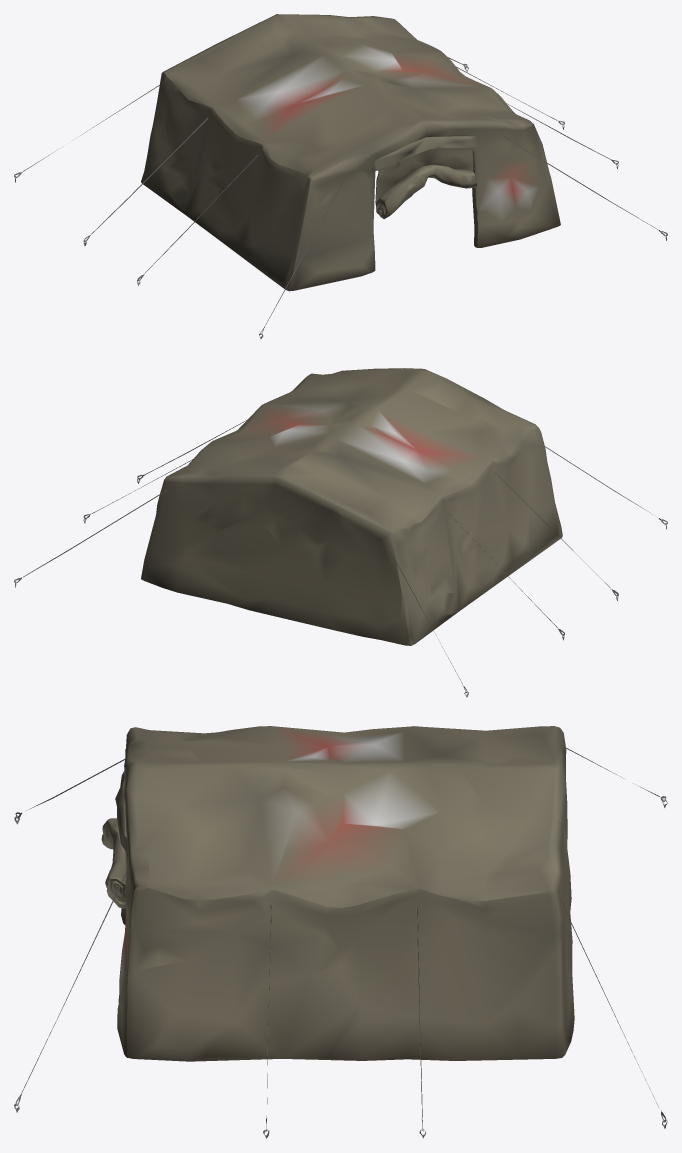
File: med_tent.glb
3 views of the same model, one above another, from view 1: azimuth 30°, elevation 25°; view 2: azimuth 150°, elevation 25°; view 3: azimuth 270°, elevation 25° (orthographic). The views are drawn at different scales.
Size of the model in its own units: 11.14 by 3.1 by 9.
